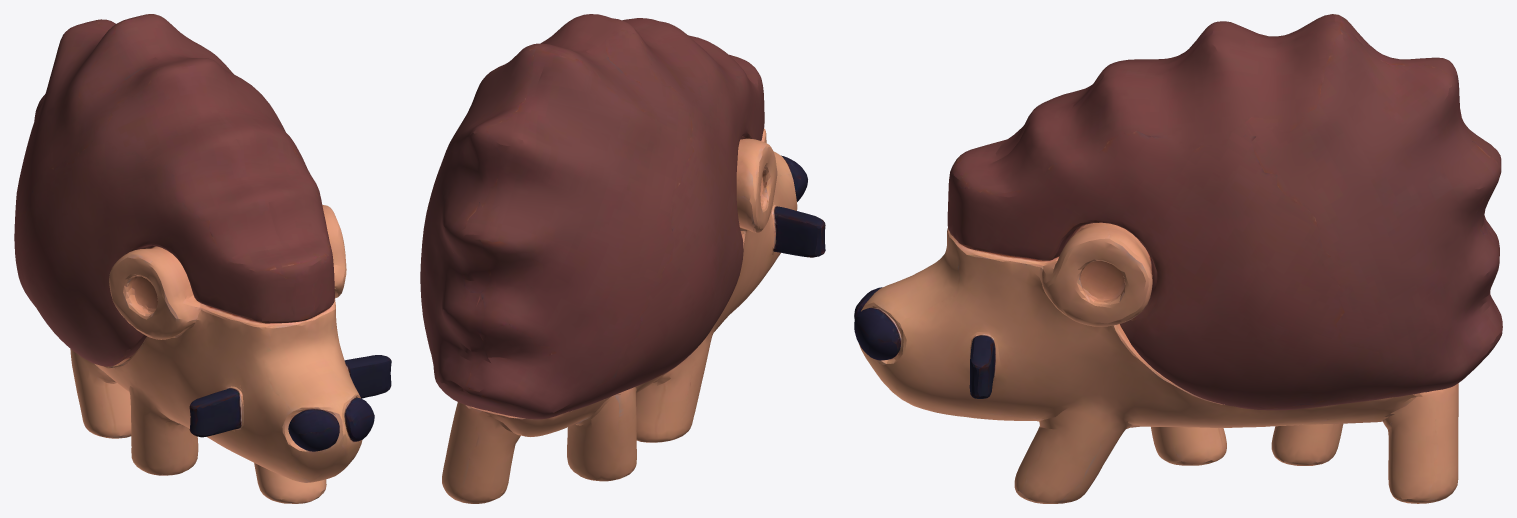
Rendered from hedgehog.glb.
3 renders of one model, left to right at view 1: azimuth 30°, elevation 25°; view 2: azimuth 150°, elevation 25°; view 3: azimuth 270°, elevation 25°, orthographic. The views are drawn at different scales.
Parts seen in each view (by area): view 1: Mesh; view 2: Mesh; view 3: Mesh.
Part boxes in pixels (x1,y1,x2,y2): Mesh: (14,14,391,503); Mesh: (420,14,825,503); Mesh: (854,14,1502,503).
Size of the model in its own units: 0.4884 by 0.7687 by 1.
Materials: 1 (1 with a texture image).
